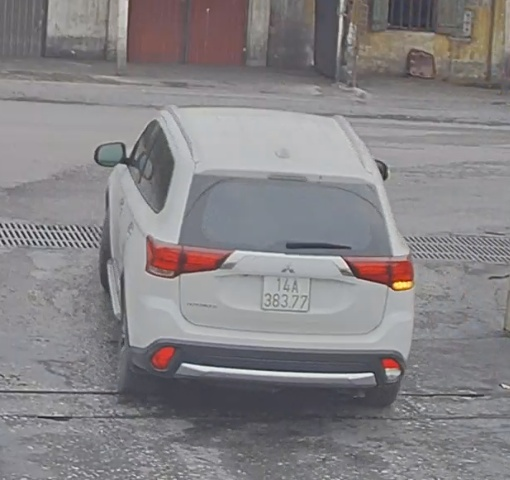vehicle plate: (263, 273, 312, 313)
